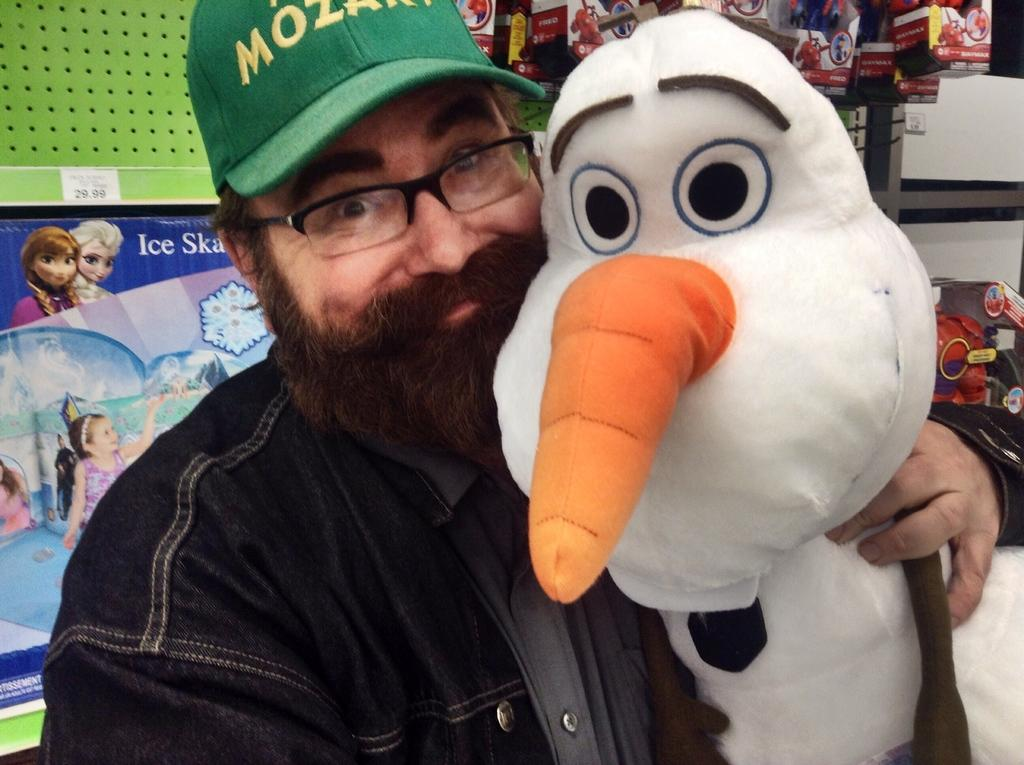Hat: (184, 0, 546, 194)
